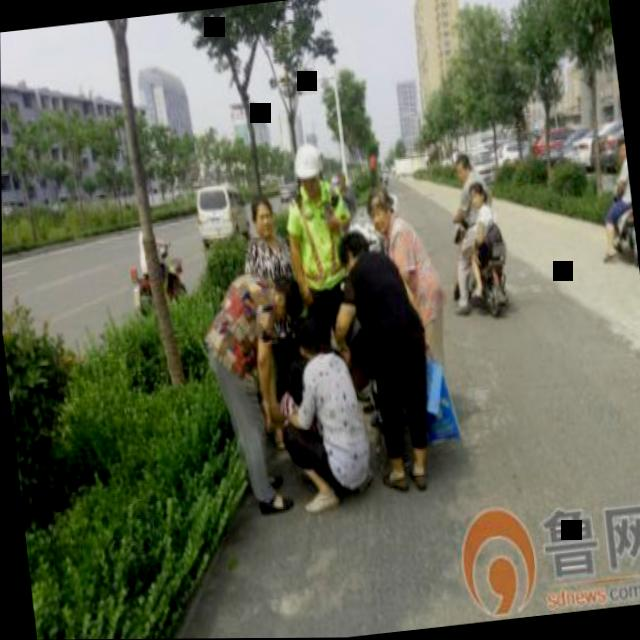Fall-Detected: (261, 307, 377, 516)
